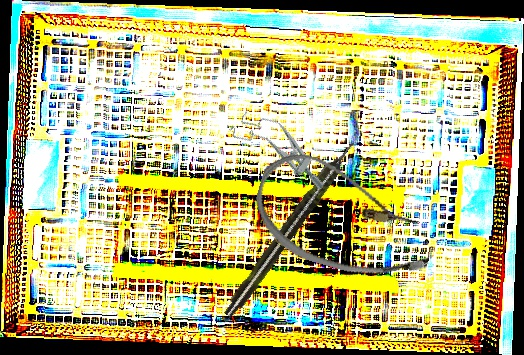Cannula: (243, 144, 448, 293)
Handpiece: (219, 136, 362, 322)
Speculum: (227, 101, 338, 197)
